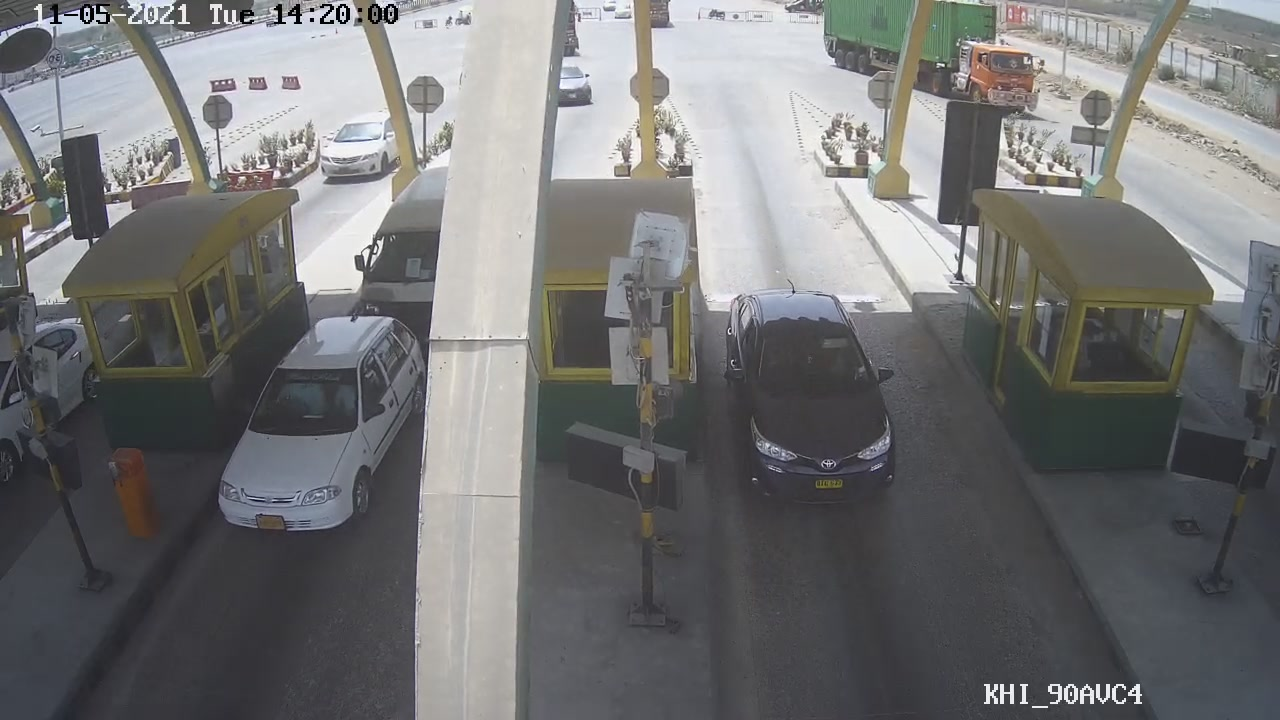F1: (718, 281, 897, 508)
